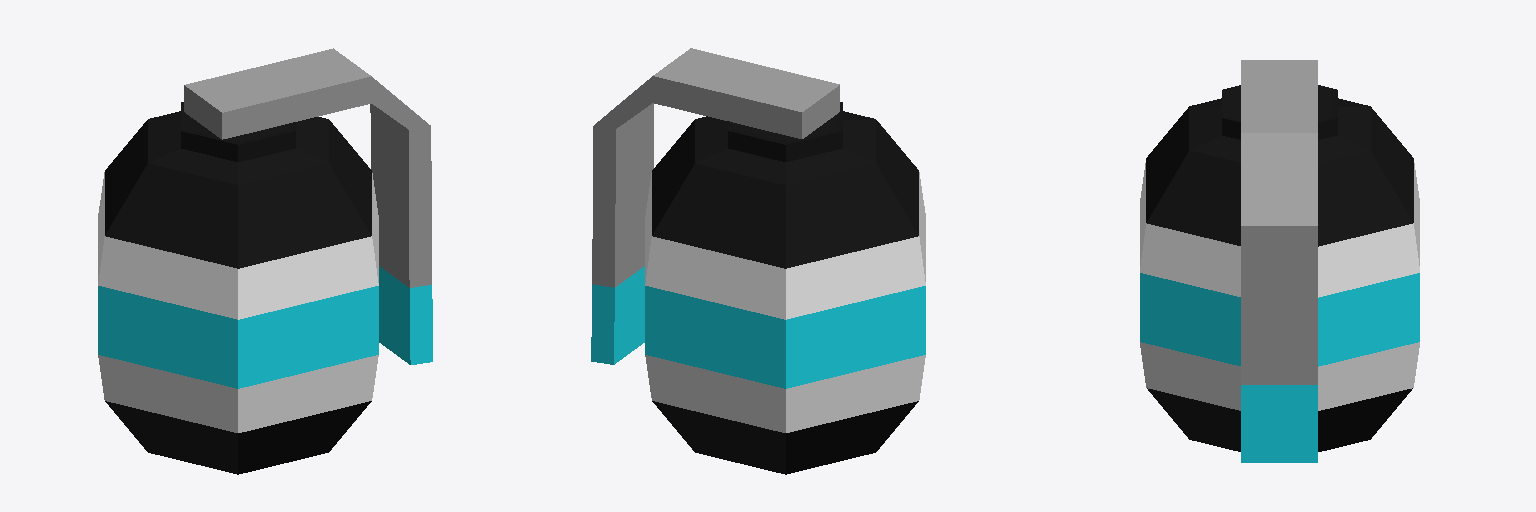
File: Grenade.obj
The picture shows the model from 3 angles: view 1: azimuth 30°, elevation 25°; view 2: azimuth 150°, elevation 25°; view 3: azimuth 270°, elevation 25°; orthographic projection.
Visible parts, largest first — view 1: Grenade; view 2: Grenade; view 3: Grenade.
Boxes of the visible parts, <box> form: Grenade: <box>98,48,432,474</box>; Grenade: <box>591,48,925,474</box>; Grenade: <box>1140,60,1419,462</box>.
Size of the model in its own units: 0.5677 by 0.5844 by 0.4369.